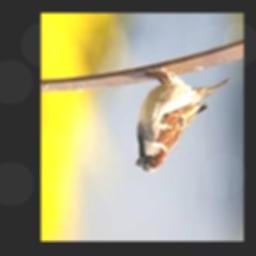Sparrow: (135, 66, 230, 172)
